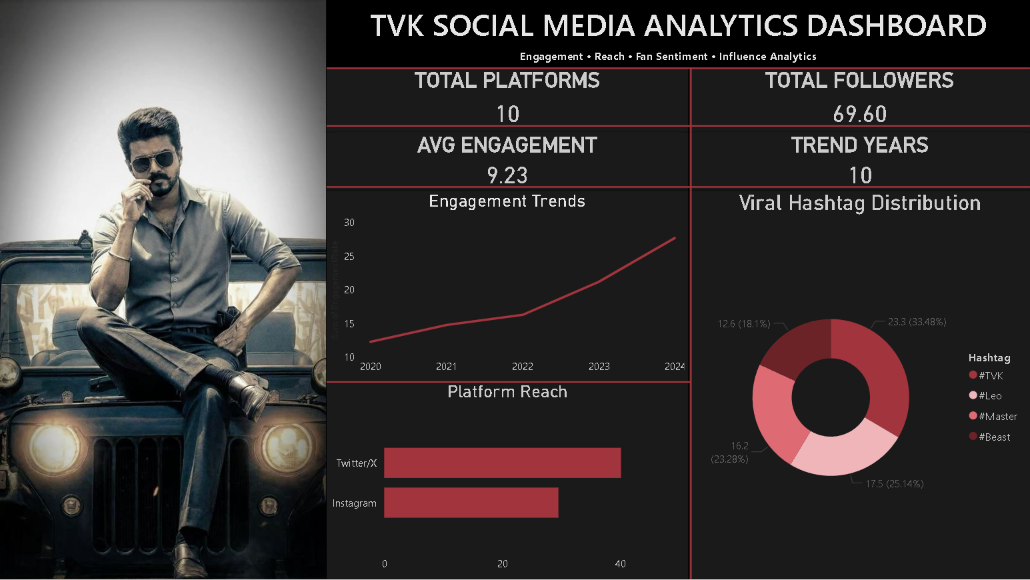

This screenshot's page, from the dashboard's own definition file:
{"tool":"powerbi","page":{"name":"Social media analytics","canvas":[1280,720],"ordinal":2},"visuals":[{"type":"image","box":[0,0,407.3,719.2],"z":0},{"type":"textbox","box":[407.3,0,872.2,74.2],"z":1000},{"type":"textbox","box":[520.9,54.5,619.3,30.3],"z":2000},{"type":"card","title":"TOTAL PLATFORMS","fields":{"Values":["CountNonNull(social_media.Platform)"]},"box":[407.3,84.8,448.2,80.3],"z":3000},{"type":"card","title":"TOTAL FOLLOWERS","fields":{"Values":["Sum(social_media.FollowersMillions)"]},"box":[855.5,84.8,424,80.3],"z":4000},{"type":"card","title":"TREND YEARS","fields":{"Values":["CountNonNull(social_media.Year)"]},"box":[855.5,165,424,71.2],"z":5000},{"type":"card","title":"AVG ENGAGEMENT","fields":{"Values":["Avg(social_media.EngagementRate)"]},"box":[407.3,165,448.2,71.2],"z":6000},{"type":"shape","box":[407.3,201.4,872.2,63.6],"z":7000},{"type":"lineChart","title":"Engagement Trends","fields":{"Category":["social_media.Year"],"Y":["Sum(social_media.EngagementRate)"]},"box":[407.3,236.2,448.2,237.7],"z":8000},{"type":"clusteredBarChart","title":"Platform Reach","fields":{"Category":["social_media.Platform"],"Y":["Sum(social_media.FollowersMillions)"]},"box":[407.3,473.9,448.2,245.3],"z":9000},{"type":"donutChart","title":"Viral Hashtag Distribution","fields":{"Category":["social_media.Hashtag"],"Y":["Sum(social_media.FollowersMillions)"]},"box":[855.5,236.2,424,483],"z":10000},{"type":"shape","box":[843.4,84.8,30.3,634.5],"z":11000},{"type":"shape","box":[407.3,455.8,451.2,36.3],"z":12000},{"type":"shape","box":[407.3,62.1,872.2,46.9],"z":12001},{"type":"shape","box":[407.3,125.7,872.2,63.6],"z":12002}]}

Visuals, with their boxes in screenshot pixels (x1, y1, x2, y2), scaled from the page's 1280x720 canvas onto the 1030x580 screenshot:
image: bbox=(0, 0, 328, 579)
textbox: bbox=(328, 0, 1029, 60)
textbox: bbox=(419, 44, 918, 68)
"TOTAL PLATFORMS" card: bbox=(328, 68, 688, 133)
"TOTAL FOLLOWERS" card: bbox=(688, 68, 1029, 133)
"TREND YEARS" card: bbox=(688, 133, 1029, 190)
"AVG ENGAGEMENT" card: bbox=(328, 133, 688, 190)
shape: bbox=(328, 162, 1029, 213)
"Engagement Trends" lineChart: bbox=(328, 190, 688, 382)
"Platform Reach" clusteredBarChart: bbox=(328, 382, 688, 579)
"Viral Hashtag Distribution" donutChart: bbox=(688, 190, 1029, 579)
shape: bbox=(679, 68, 703, 579)
shape: bbox=(328, 367, 691, 396)
shape: bbox=(328, 50, 1029, 88)
shape: bbox=(328, 101, 1029, 152)
